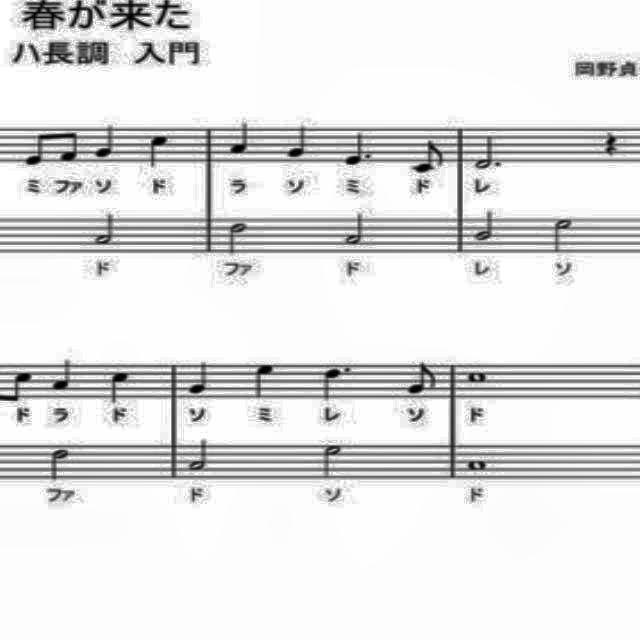Eighth-note: (403, 137, 447, 175), (404, 358, 440, 398), (23, 118, 49, 170), (6, 364, 34, 408), (57, 122, 81, 166)
Full-note: (464, 367, 492, 389), (468, 454, 492, 478)
Half-dot: (470, 129, 510, 175)
Half-note: (44, 442, 72, 486), (224, 218, 253, 258), (92, 212, 120, 252), (473, 208, 501, 248), (322, 442, 350, 482), (550, 218, 576, 258), (342, 210, 366, 250), (188, 442, 212, 472)
Quarter-dot: (317, 363, 358, 405), (342, 128, 378, 172)
Quarter-note: (141, 126, 175, 170), (225, 121, 259, 159), (104, 366, 136, 406), (50, 355, 80, 397), (252, 358, 280, 402), (186, 357, 212, 399), (285, 122, 315, 158), (90, 122, 114, 166)
Quarter-rest: (596, 125, 624, 163)
